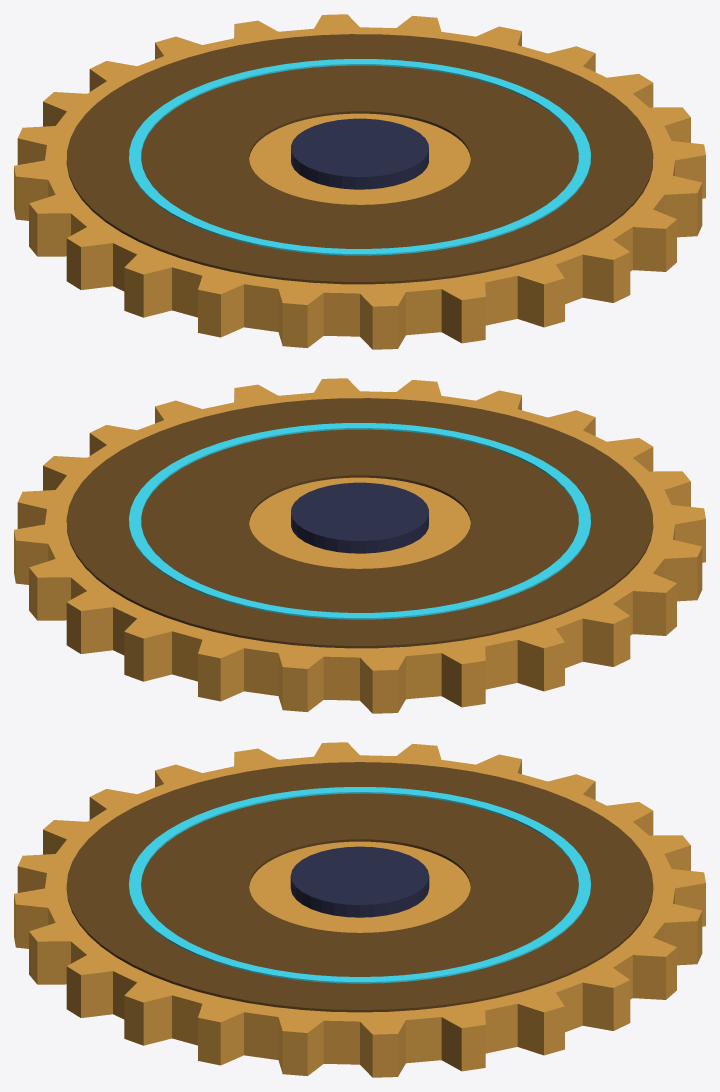
Rendered from Gear_Big4.obj.
3 renders of one model, top to bottom at view 1: azimuth 30°, elevation 25°; view 2: azimuth 150°, elevation 25°; view 3: azimuth 270°, elevation 25°, orthographic.
Visible parts, largest first — view 1: Gear_Big4; view 2: Gear_Big4; view 3: Gear_Big4.
Part boxes in pixels (bbox=[...]): Gear_Big4: bbox=[14, 14, 705, 349]; Gear_Big4: bbox=[14, 378, 705, 713]; Gear_Big4: bbox=[14, 742, 705, 1077].
Bounding box in the file's own units: 7.99 × 0.71 × 7.99.
